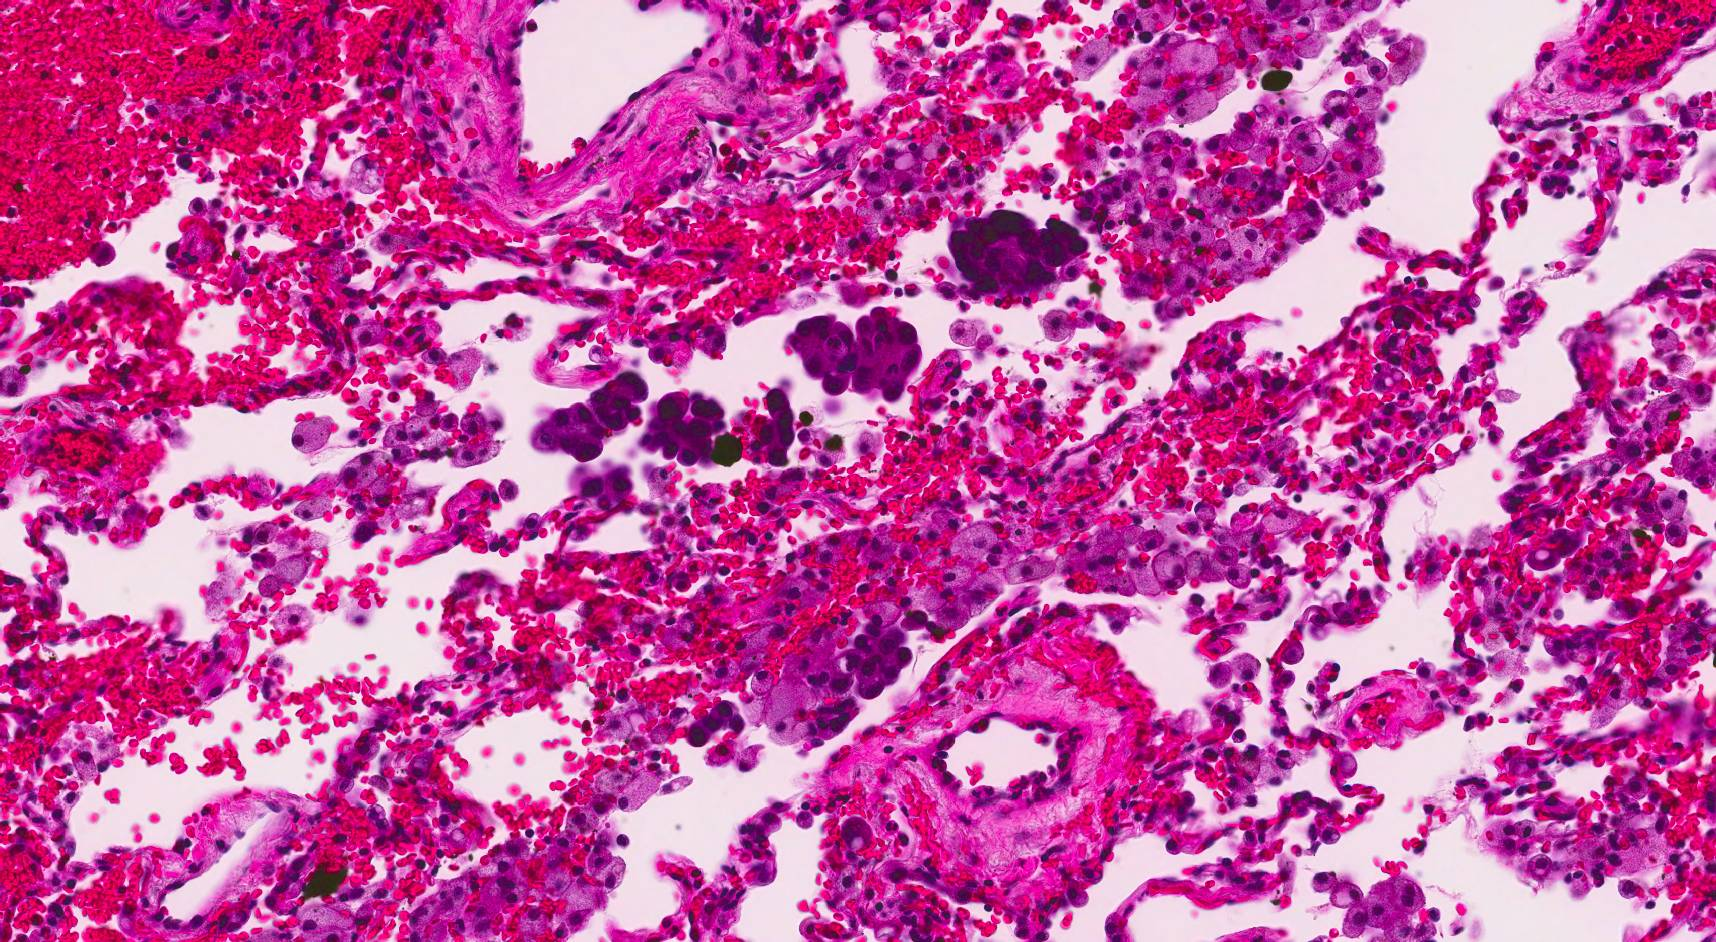stas: (947, 207, 1096, 301), (787, 311, 929, 403), (528, 368, 649, 463), (639, 389, 729, 468), (840, 618, 914, 701), (743, 387, 798, 467), (684, 698, 752, 748)
